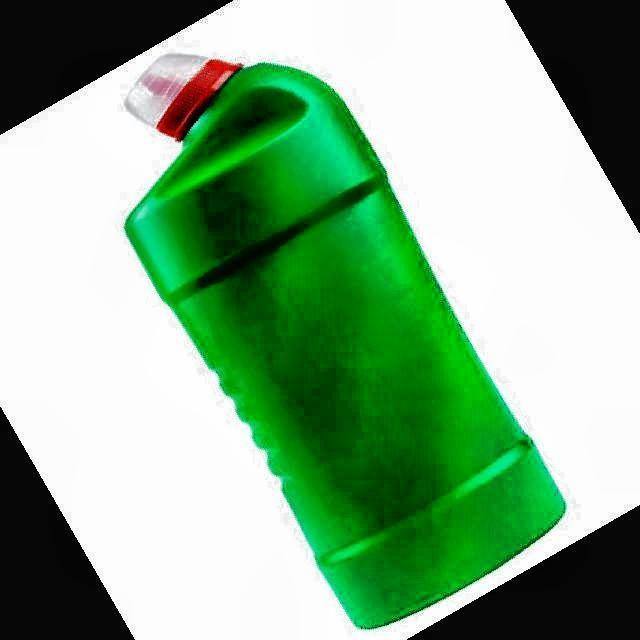plastic: (125, 56, 565, 628)
